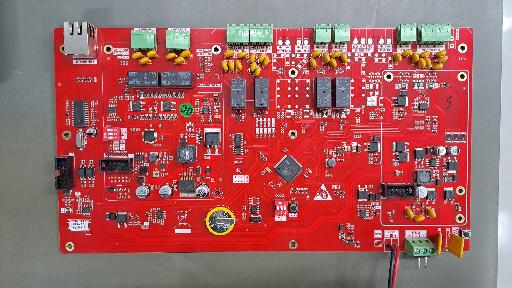var: (446, 232, 465, 258), (437, 232, 443, 254), (413, 213, 426, 222), (426, 207, 435, 218), (146, 50, 158, 58), (407, 206, 414, 219), (430, 63, 443, 70), (329, 58, 337, 69), (221, 61, 229, 72), (180, 50, 191, 58), (401, 49, 412, 57), (411, 52, 419, 63), (394, 52, 402, 63), (311, 49, 322, 57), (419, 57, 425, 71), (139, 57, 151, 64), (436, 56, 448, 63), (434, 50, 446, 57), (249, 53, 257, 63), (425, 57, 432, 68), (174, 57, 185, 64), (419, 51, 430, 58), (166, 52, 177, 59), (250, 61, 257, 72), (323, 53, 330, 64), (254, 66, 261, 77), (228, 60, 234, 72), (330, 51, 340, 58), (132, 52, 142, 59), (224, 50, 234, 57), (237, 51, 247, 58), (310, 58, 317, 68), (258, 52, 265, 62), (236, 60, 242, 71), (341, 53, 347, 63)
